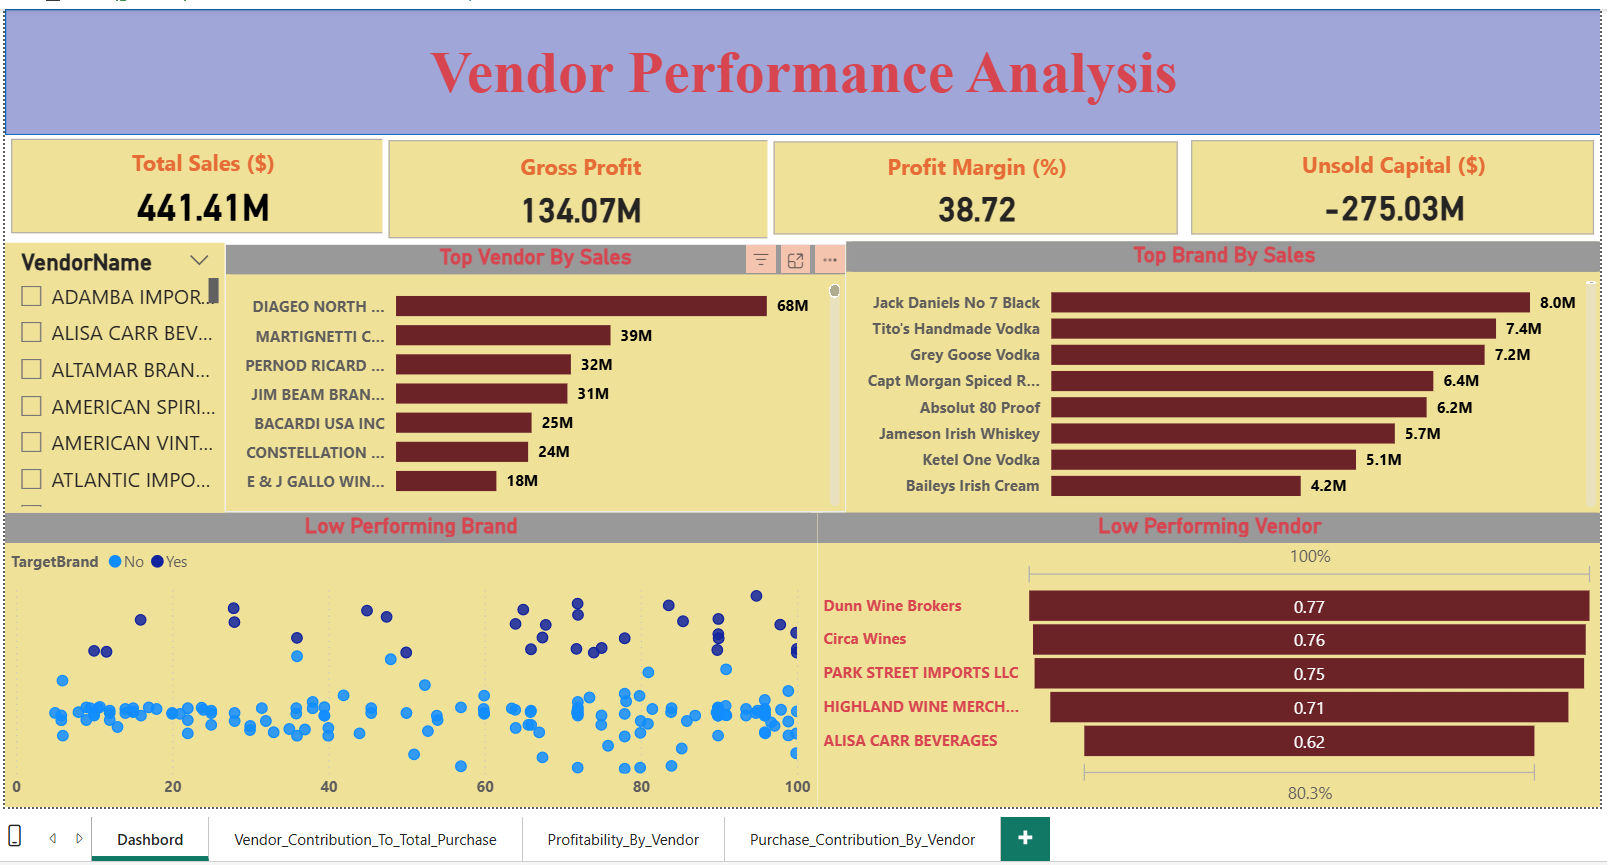

This screenshot's page, from the dashboard's own definition file:
{"tool":"powerbi","page":{"name":"Dashbord","canvas":[1267,634],"ordinal":0},"visuals":[{"type":"cardVisual","fields":{"Data":["Sum(final_vendor_analysis.TotalSalesDollars)"]},"box":[0,98.7,313.8,85.8],"z":0},{"type":"cardVisual","fields":{"Data":["Sum(final_vendor_analysis.GrossProfit)"]},"box":[299.5,99.1,313.3,88.7],"z":1000},{"type":"cardVisual","fields":{"Data":["Avg(final_vendor_analysis.ProfitMargin)"]},"box":[605.3,99.9,331.5,84.6],"z":2000},{"type":"cardVisual","fields":{"Data":["Sum(final_vendor_analysis.UnsoldCapital)"]},"box":[937.3,98.9,330.7,85.7],"z":3000},{"type":"barChart","title":"Top Vendor By Sales","fields":{"Category":["final_vendor_analysis.VendorName"],"Y":["Sum(final_vendor_analysis.TotalSalesDollars)"]},"box":[174.7,186.8,493.4,213.2],"z":4000},{"type":"barChart","title":"Top Brand By Sales","fields":{"Category":["final_vendor_analysis.Description"],"Y":["Sum(final_vendor_analysis.TotalSalesDollars)"]},"box":[667.6,184.5,600.6,216.3],"z":5000},{"type":"funnel","title":"Low Performing Vendor","fields":{"Category":["LowTurnoverVendor.VendorName"],"Y":["Sum(LowTurnoverVendor.AvgStockTurnOver)"]},"box":[645.1,399.7,623.2,236.1],"z":6000},{"type":"scatterChart","title":"Low Performing Brand","fields":{"Category":["BrandPerformance.Description"],"X":["Sum(BrandPerformance.TotalSales)"],"Y":["Sum(BrandPerformance.AvgProfitMargin)"],"Series":["BrandPerformance.TargetBrand"]},"box":[0,400,645,236.2],"z":7000},{"type":"slicer","fields":{"Values":["final_vendor_analysis.VendorName"]},"box":[0,185.7,174.7,214.3],"z":8000},{"type":"shape","box":[0,0,1268.2,100.2],"z":9000}]}

Visuals, with their boxes on the page's 1267x634 design canvas (x1, y1, x2, y2). These are canvas units, not pixel positions in the 1607x865 screenshot, which may show the page scaled, cropped or inside an application window:
cardVisual - Sum(final_vendor_analysis.TotalSalesDollars): box(0, 99, 314, 184)
cardVisual - Sum(final_vendor_analysis.GrossProfit): box(300, 99, 613, 188)
cardVisual - Avg(final_vendor_analysis.ProfitMargin): box(605, 100, 937, 184)
cardVisual - Sum(final_vendor_analysis.UnsoldCapital): box(937, 99, 1268, 185)
"Top Vendor By Sales" barChart: box(175, 187, 668, 400)
"Top Brand By Sales" barChart: box(668, 184, 1268, 401)
"Low Performing Vendor" funnel: box(645, 400, 1268, 636)
"Low Performing Brand" scatterChart: box(0, 400, 645, 636)
slicer - final_vendor_analysis.VendorName: box(0, 186, 175, 400)
shape: box(0, 0, 1268, 100)
